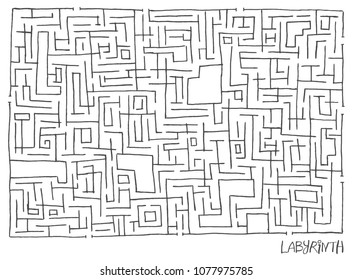maze: (9, 7, 344, 233)
